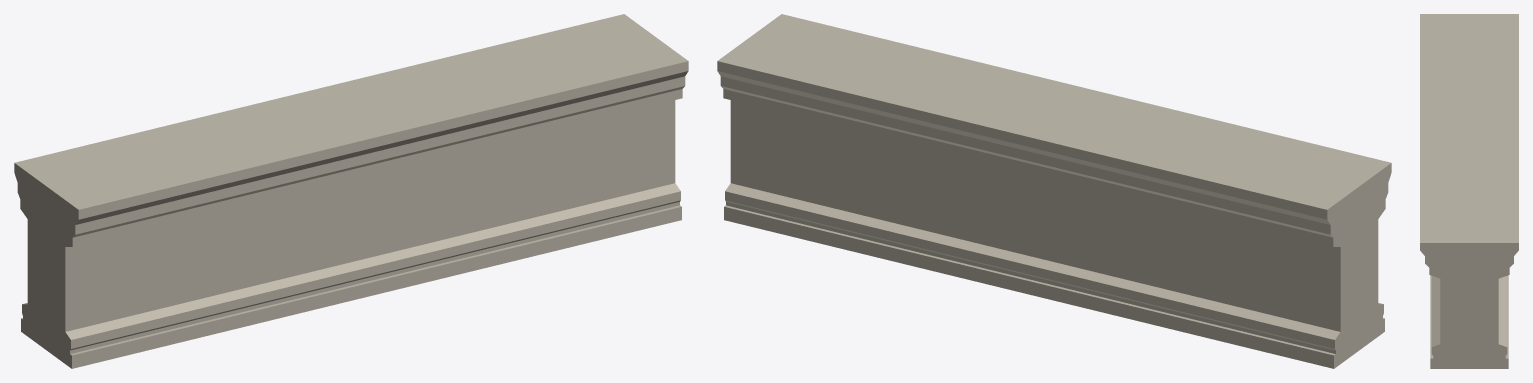
File: BC_Frame_D_01.fbx
3 views of the same model, side by side, from view 1: azimuth 30°, elevation 25°; view 2: azimuth 150°, elevation 25°; view 3: azimuth 270°, elevation 25° (orthographic). The views are drawn at different scales.
Visible parts, largest first — view 1: BC_Frame_D_01; view 2: BC_Frame_D_01; view 3: BC_Frame_D_01.
Part boxes in pixels (<box>): BC_Frame_D_01: <box>14,14,688,368</box>; BC_Frame_D_01: <box>717,14,1391,368</box>; BC_Frame_D_01: <box>1420,14,1518,368</box>.
Bounding box in the file's own units: 800 × 206 × 146.
